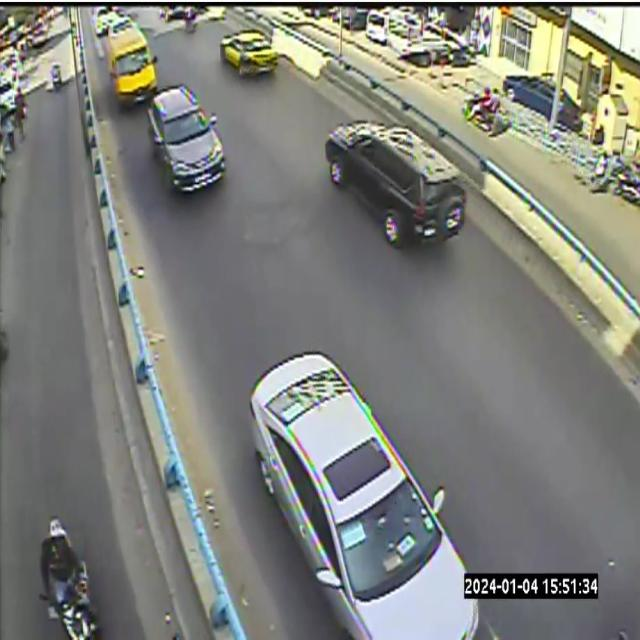car: (250, 354, 478, 639), (325, 120, 466, 245), (147, 85, 225, 191), (105, 29, 156, 101), (220, 32, 278, 75)
